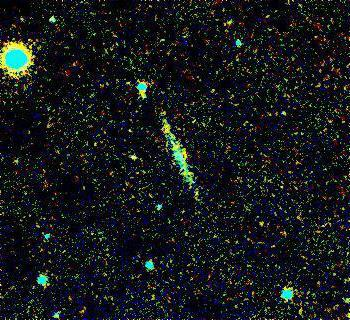star: (150, 117, 180, 147)
